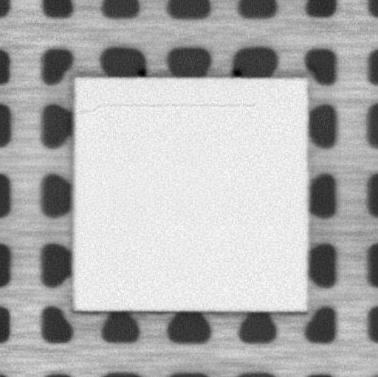DIE_CRACK: (80, 99, 255, 116)
